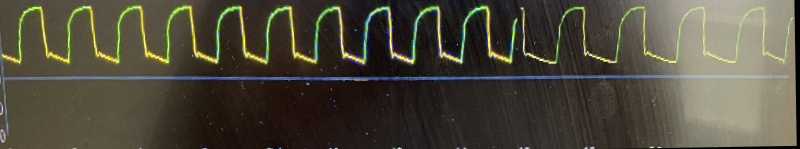normal_pressure: (0, 0, 779, 75)
